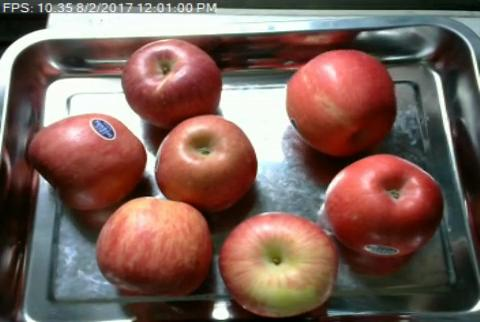apple: (324, 154, 444, 259), (221, 210, 336, 316), (285, 49, 397, 155), (27, 113, 146, 206), (97, 199, 210, 296), (153, 115, 257, 208), (121, 39, 222, 123)
